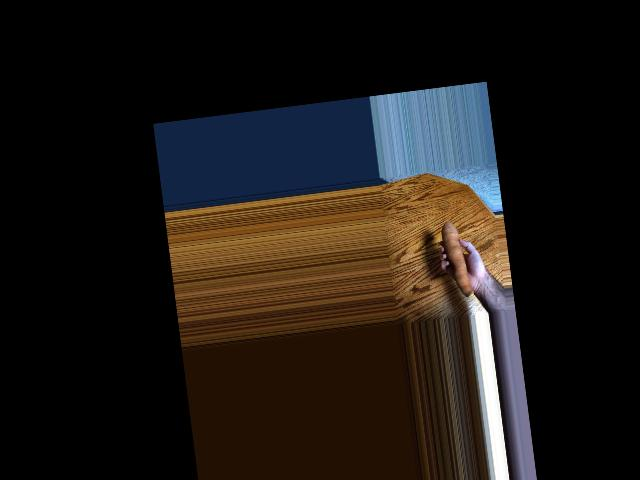sweet_potato: (434, 219, 474, 296)
